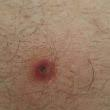Tick: (32, 59, 56, 82)
